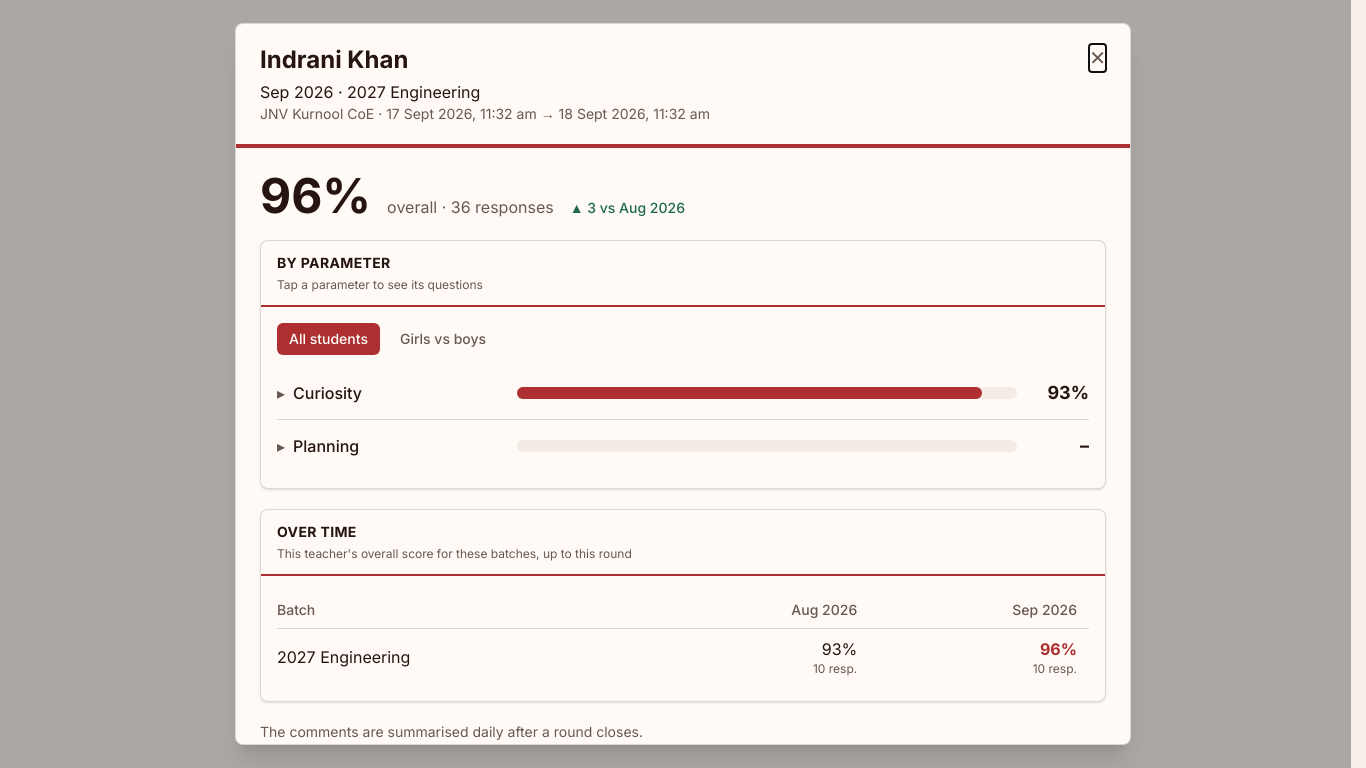
AnalysisModal › expands a parameter into its questions and how students answered
expect the text "Real life Examples" is not shown: met
Click the button "▸ Curiosity 93%". click: (683, 393)
box: [277,367,1089,419]
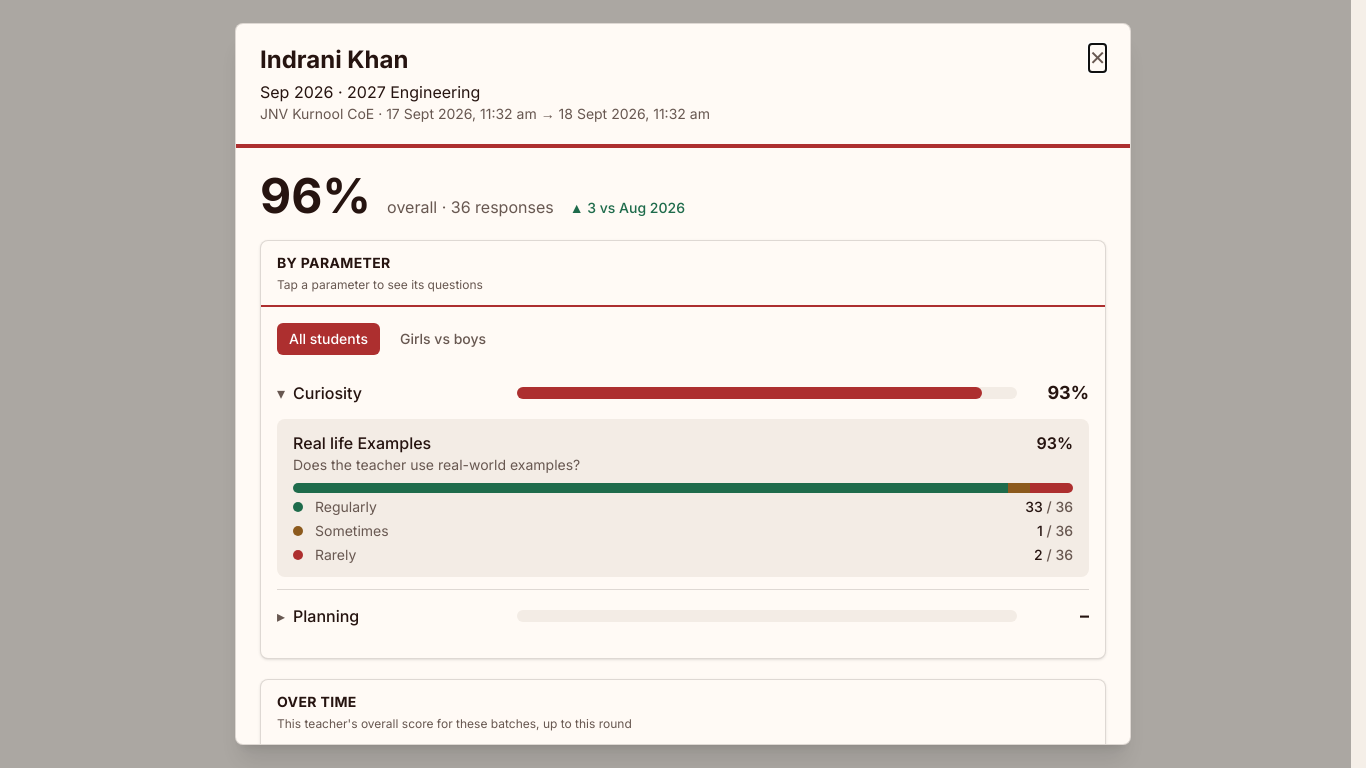
expect the text "–" is shown: met, box [1080,605,1089,626]
expect the text "Real life Examples" is shown: met, box [293,433,431,453]
